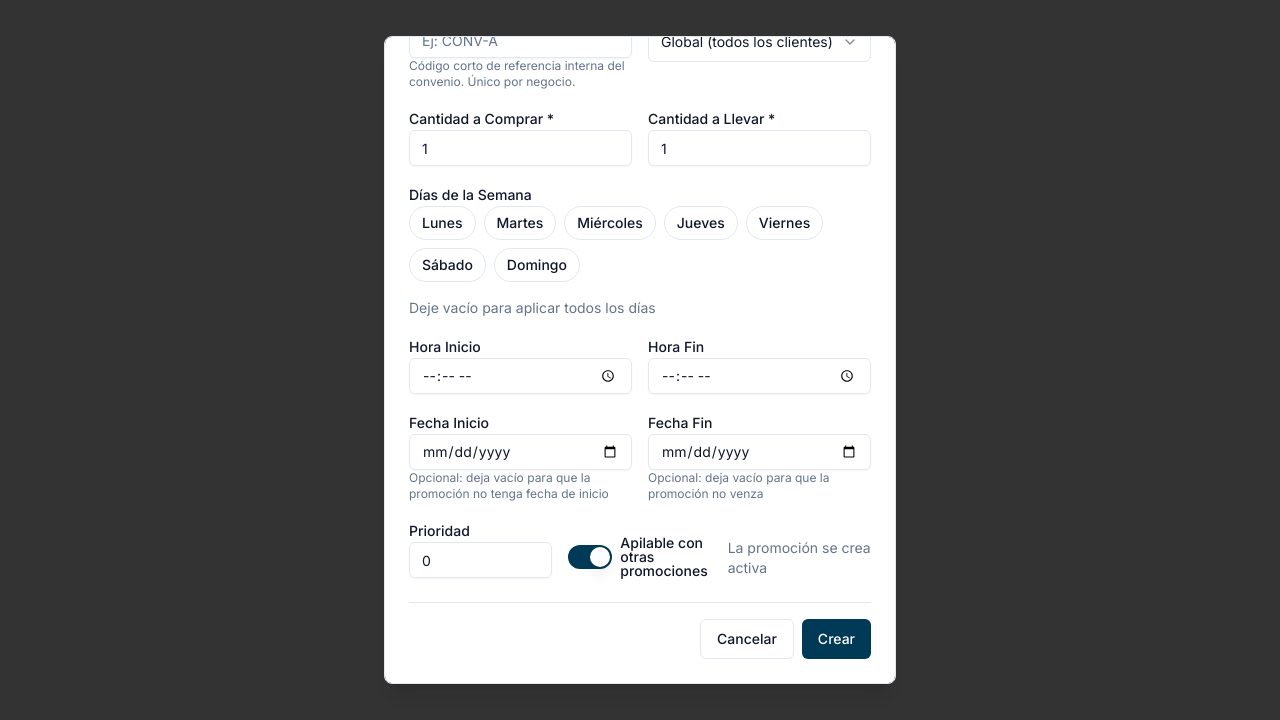
Test: PromotionForm › shows validation error for empty name
The width and height of the screenshot is (1280, 720).
(page scrolled)
Click the button "Crear" at (836, 639), box top-left (802, 619), bottom-right (871, 659)
(page scrolled)
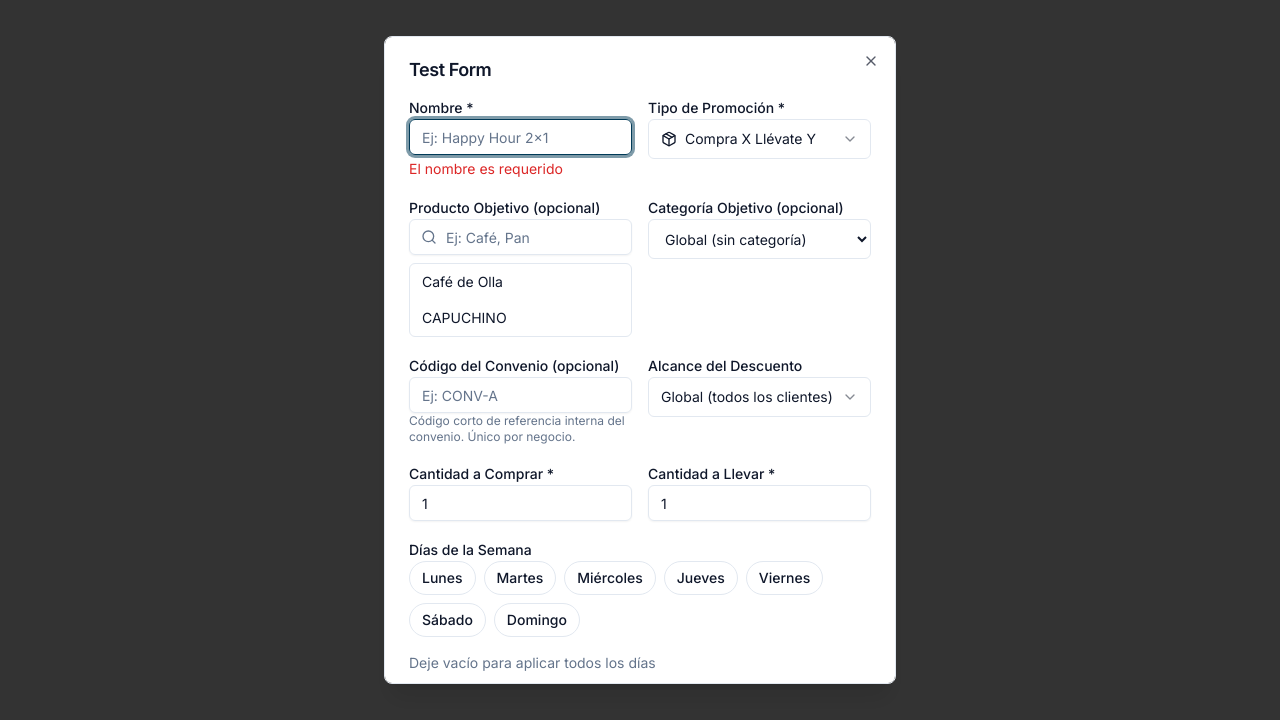
expect the text "El nombre es requerido" is shown: met, box top-left (409, 160), bottom-right (563, 177)
